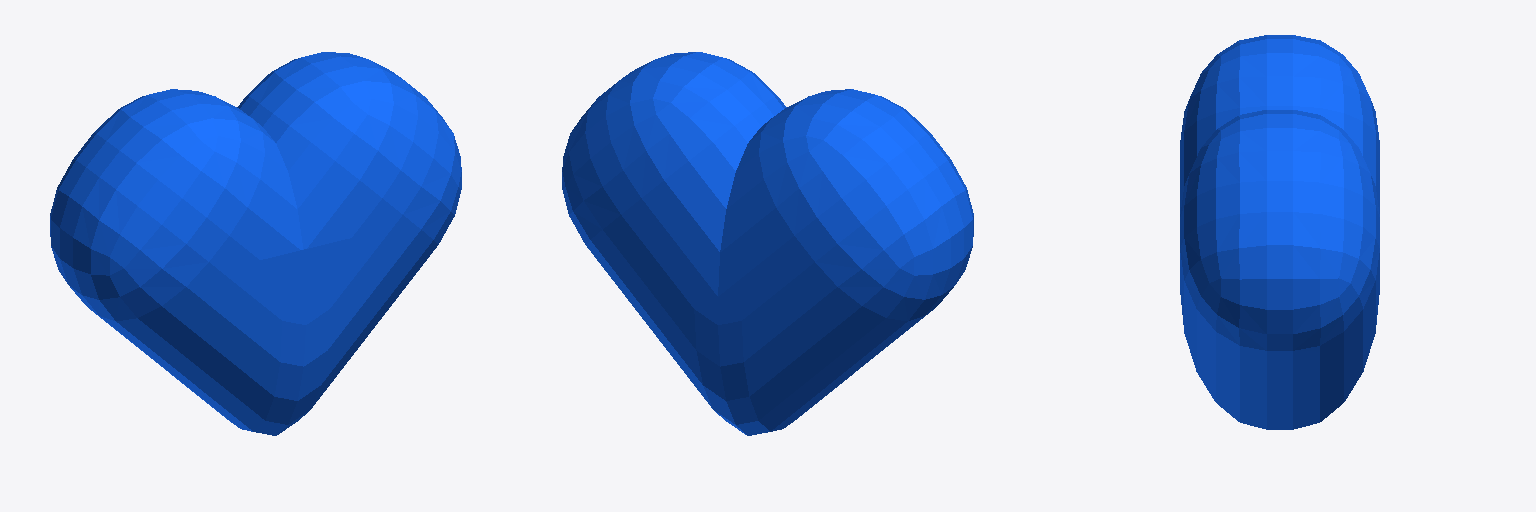
The model's file is heart_teamBlue.obj.
3 renders of one model, left to right at view 1: azimuth 30°, elevation 25°; view 2: azimuth 150°, elevation 25°; view 3: azimuth 270°, elevation 25°, orthographic.
Parts seen in each view (by area): view 1: heart_teamBlue_Cube.040; view 2: heart_teamBlue_Cube.040; view 3: heart_teamBlue_Cube.040.
Boxes of the visible parts, x1=… form: heart_teamBlue_Cube.040: x1=50, y1=52, x2=461, y2=435; heart_teamBlue_Cube.040: x1=562, y1=52, x2=973, y2=435; heart_teamBlue_Cube.040: x1=1180, y1=35, x2=1379, y2=429.
Size of the model in its own units: 1.08 by 0.939 by 0.4932.